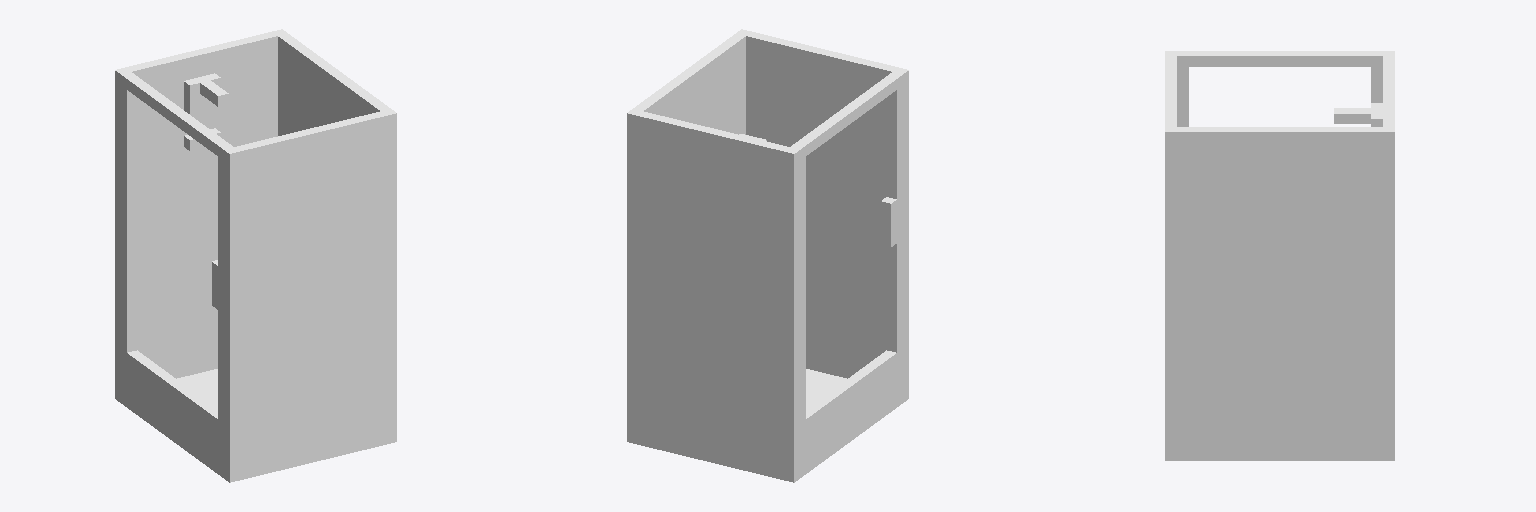
File: apt-shower.obj
The picture shows the model from 3 angles: view 1: azimuth 30°, elevation 25°; view 2: azimuth 150°, elevation 25°; view 3: azimuth 270°, elevation 25°; orthographic projection.
Visible parts, largest first — view 1: apt:shower; view 2: apt:shower; view 3: apt:shower.
Boxes of the visible parts, x1=… form: apt:shower: x1=115, y1=29, x2=396, y2=482; apt:shower: x1=627, y1=29, x2=908, y2=482; apt:shower: x1=1165, y1=51, x2=1394, y2=460.
Size of the model in its own units: 16 by 30 by 19.